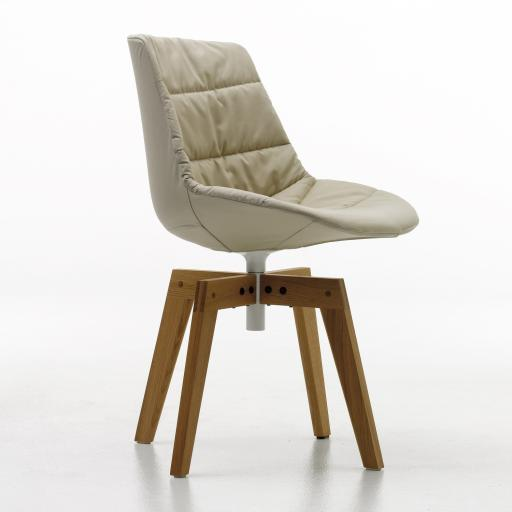chair: (127, 34, 419, 477)
